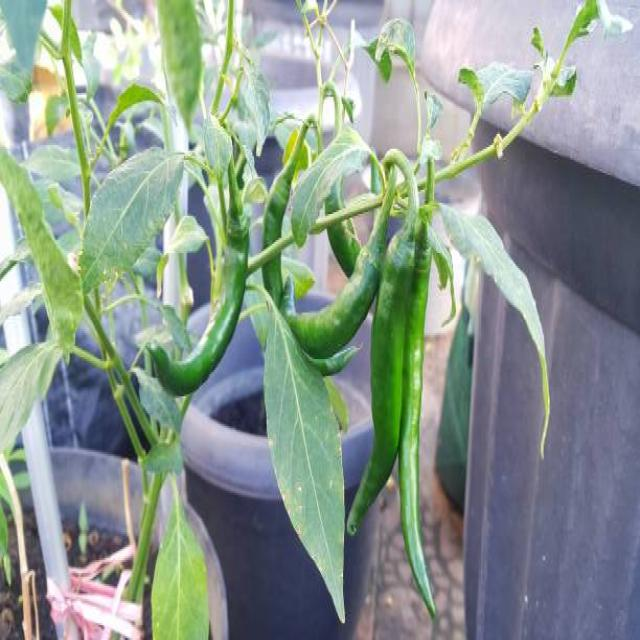Unripe: (348, 212, 416, 532), (151, 236, 247, 394), (398, 238, 434, 616), (289, 247, 380, 357)
